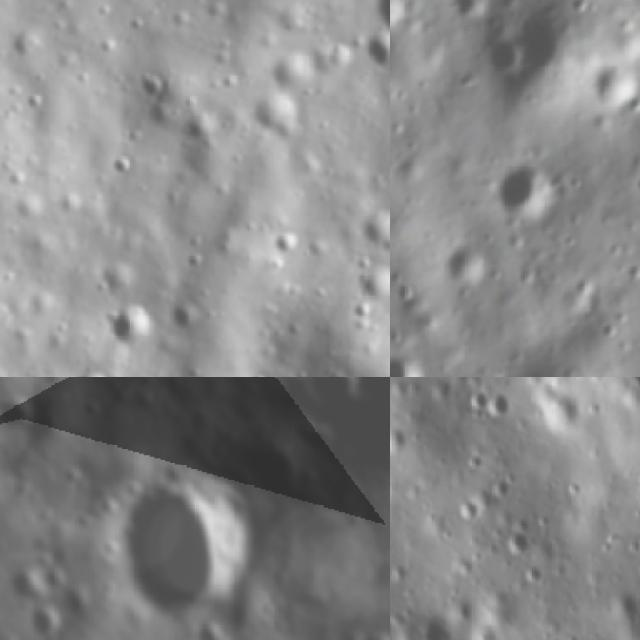crater: (105, 467, 258, 627), (297, 377, 390, 479), (500, 162, 555, 216), (102, 306, 160, 354), (398, 607, 458, 640), (0, 392, 37, 445), (600, 69, 640, 111), (5, 565, 41, 607), (22, 606, 66, 640), (492, 36, 526, 74), (456, 252, 493, 286), (37, 566, 73, 600), (486, 385, 517, 423), (391, 276, 424, 308), (367, 556, 390, 596), (390, 361, 433, 377), (30, 377, 67, 393), (81, 399, 103, 424), (390, 426, 407, 458), (390, 0, 409, 22)
